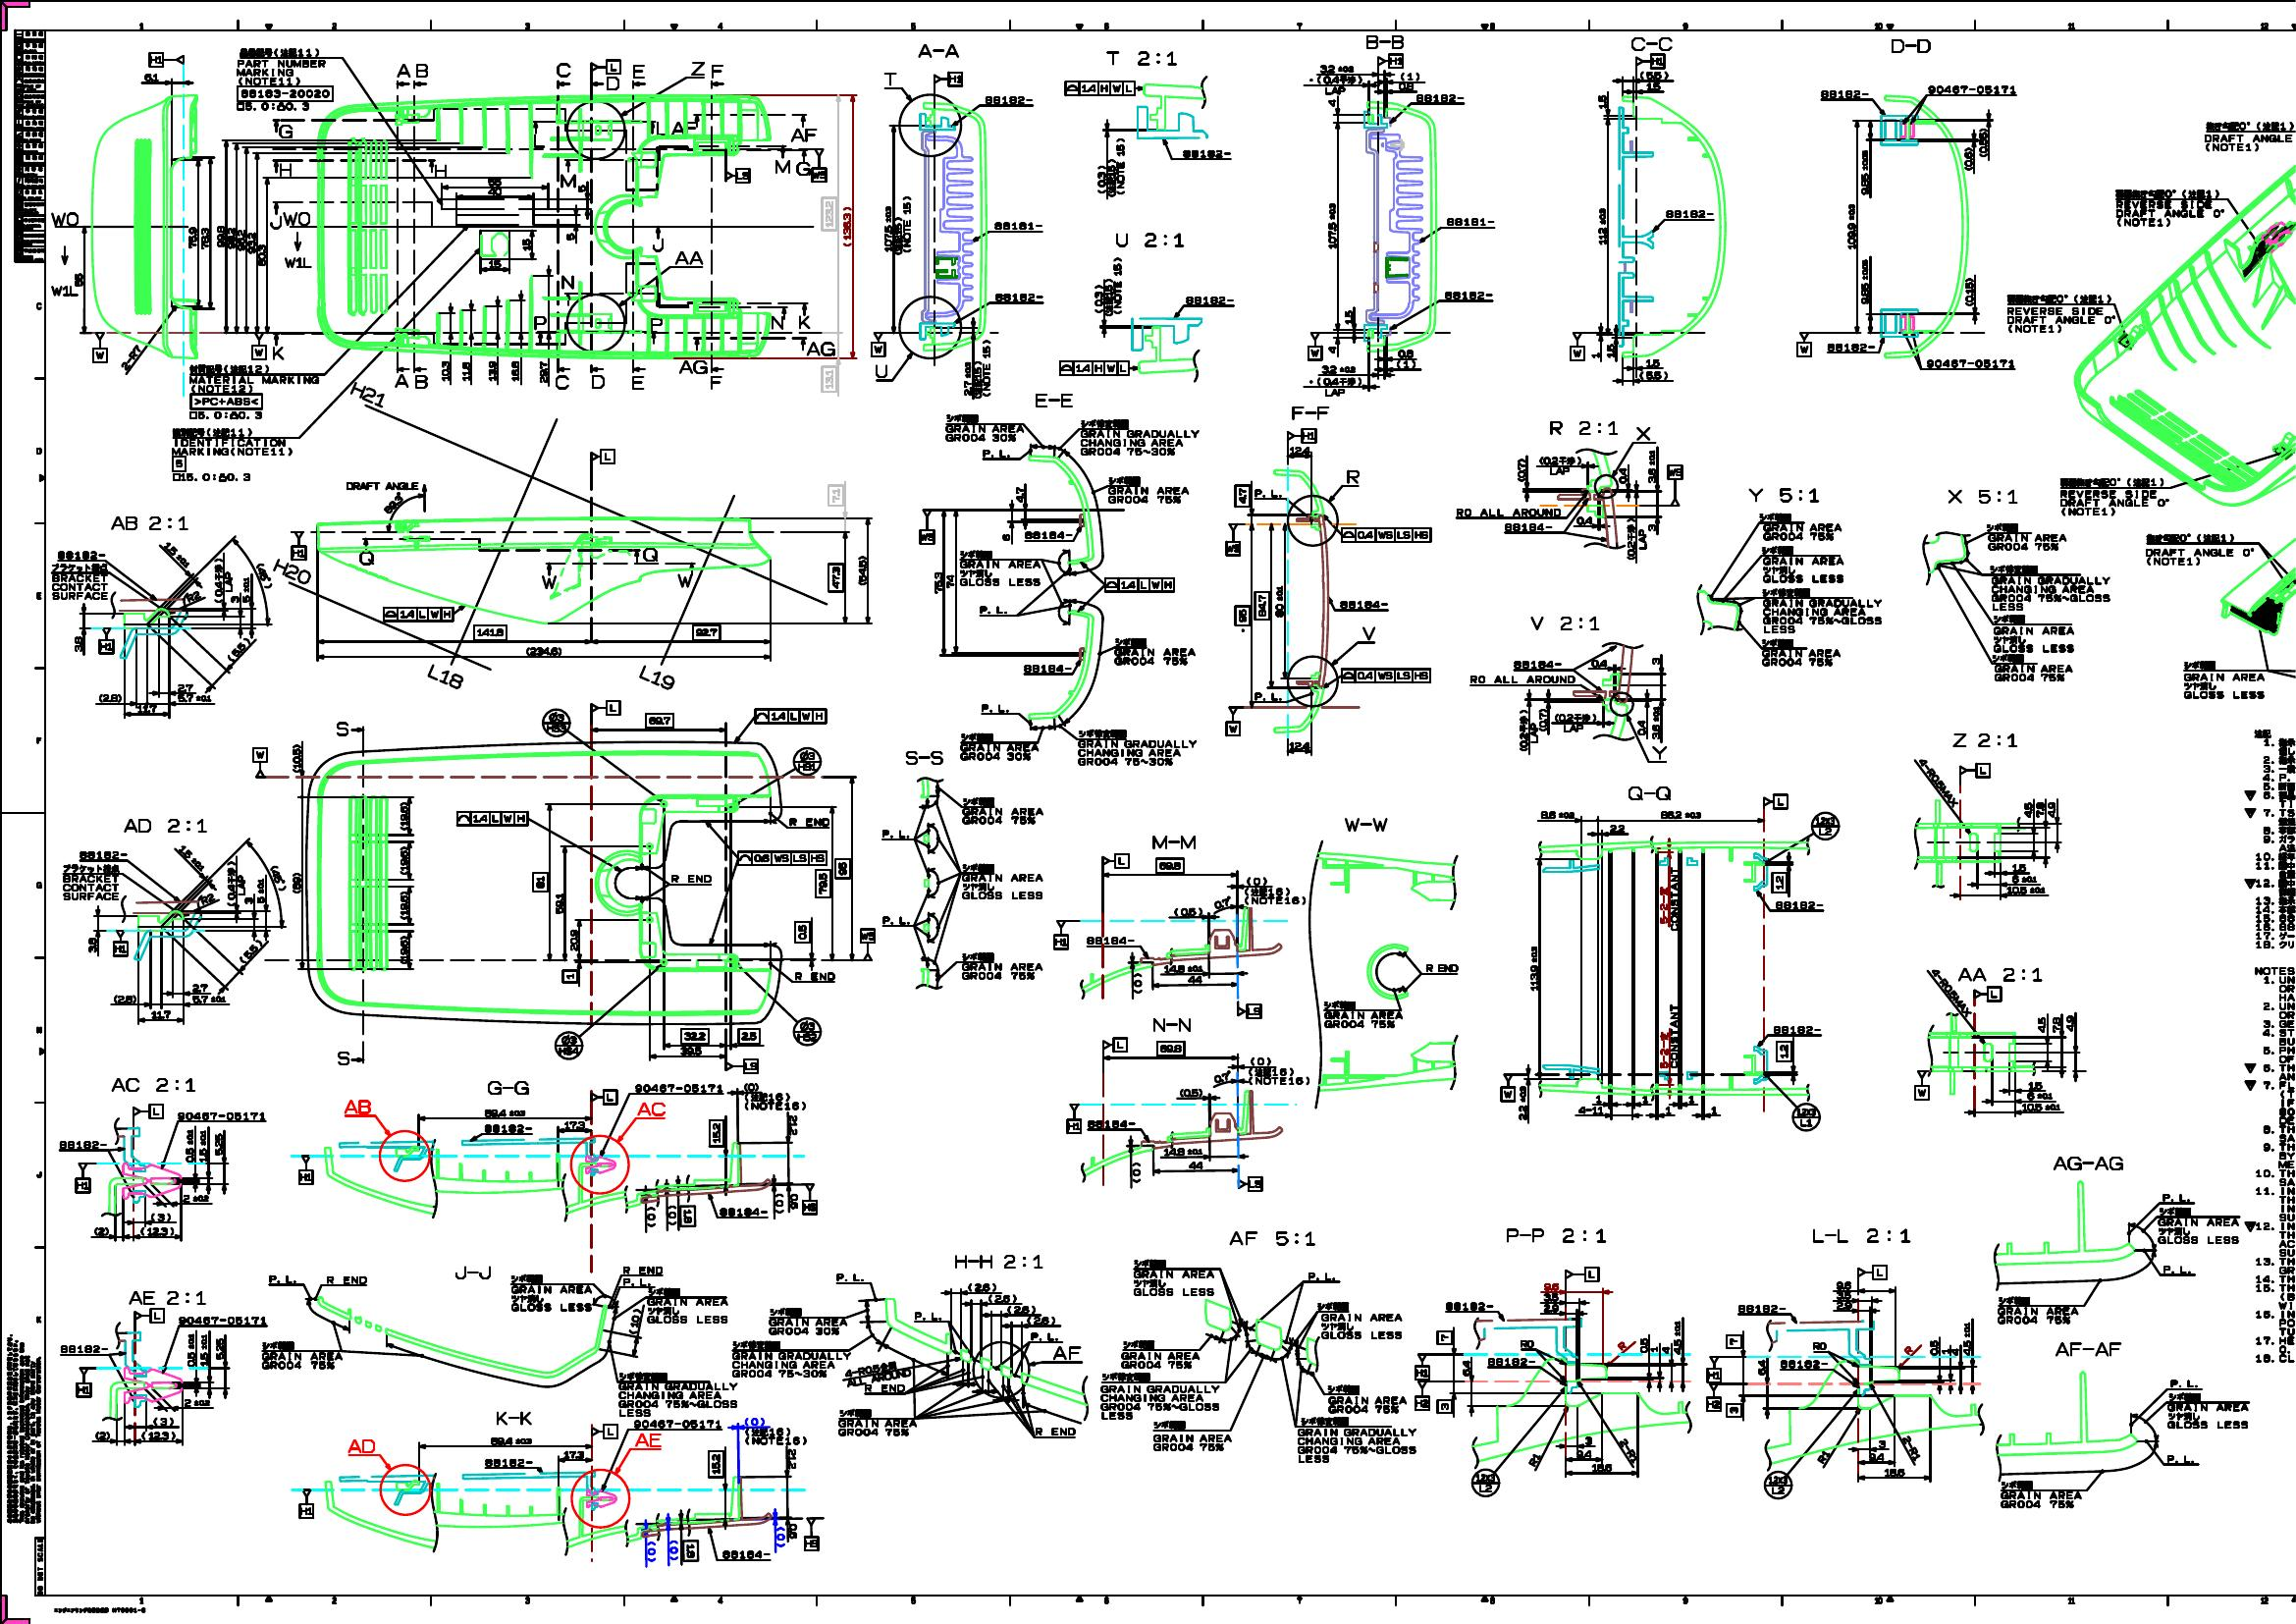anntotation_text: (188, 364, 320, 420), (5, 1334, 42, 1524), (172, 427, 295, 482), (1989, 564, 2113, 613), (235, 47, 332, 111), (1100, 1371, 1221, 1420), (617, 1371, 740, 1417), (1760, 587, 1883, 633), (1296, 1417, 1418, 1462), (1080, 417, 1200, 455), (2006, 294, 2117, 334), (2113, 188, 2224, 228), (2059, 476, 2170, 517), (731, 1341, 850, 1378), (1077, 729, 1196, 766), (2147, 533, 2256, 566), (1316, 1301, 1404, 1341), (1760, 545, 1845, 584), (2184, 661, 2266, 700), (959, 548, 1042, 587), (508, 1274, 592, 1311), (1992, 615, 2076, 652), (2166, 1392, 2250, 1429), (963, 863, 1045, 900), (1133, 1258, 1216, 1295), (2157, 1207, 2240, 1244), (2203, 121, 2296, 153), (646, 1287, 729, 1322), (49, 211, 79, 297), (1151, 1420, 1231, 1452), (961, 951, 1045, 981), (1999, 1480, 2083, 1510), (945, 413, 1024, 445), (262, 1341, 344, 1371), (961, 796, 1043, 826), (1985, 522, 2068, 552), (1990, 652, 2073, 682), (1997, 1295, 2080, 1325), (1326, 1383, 1407, 1413), (1108, 475, 1189, 504), (1121, 1339, 1200, 1369), (1758, 513, 1841, 541), (1114, 638, 1196, 666), (768, 1308, 848, 1336), (1323, 1000, 1404, 1028), (1760, 638, 1841, 666), (957, 731, 1038, 759), (838, 1408, 917, 1436), (61, 863, 119, 900), (51, 562, 107, 599), (1809, 1227, 1913, 1244), (1504, 1227, 1606, 1244), (281, 211, 311, 269), (1226, 1229, 1316, 1246), (1955, 965, 2043, 982), (111, 1076, 195, 1093), (1340, 527, 1432, 543), (954, 1253, 1043, 1269), (845, 1362, 912, 1383), (1658, 866, 1679, 932), (1242, 886, 1307, 907), (128, 1290, 206, 1308), (123, 817, 207, 833), (2050, 1155, 2124, 1172), (1658, 1002, 1678, 1069), (1946, 489, 2018, 506), (1748, 487, 1820, 504), (1105, 49, 1177, 67), (1340, 668, 1430, 682), (1548, 418, 1618, 436), (738, 851, 826, 865), (2052, 1341, 2122, 1359), (1247, 1067, 1310, 1086), (111, 515, 188, 531), (1103, 255, 1123, 316), (973, 337, 993, 399), (1950, 731, 2017, 749), (1107, 137, 1126, 197), (754, 708, 826, 724), (381, 606, 453, 622), (1456, 506, 1563, 517), (1469, 673, 1576, 684), (632, 1081, 724, 1093), (1925, 357, 2017, 369), (743, 1093, 806, 1111), (743, 1427, 806, 1445), (1059, 359, 1130, 374), (1309, 74, 1361, 95), (1114, 232, 1184, 248), (177, 1313, 267, 1325), (1530, 615, 1599, 631), (1105, 576, 1173, 592), (1307, 378, 1361, 397), (894, 195, 912, 255), (457, 810, 529, 824), (1065, 81, 1137, 95), (1809, 810, 1841, 842), (1925, 84, 2017, 95), (1790, 1102, 1822, 1132), (177, 1111, 265, 1121), (632, 1418, 720, 1429), (1518, 708, 1539, 752), (227, 859, 246, 907), (791, 1016, 820, 1046), (541, 707, 571, 736), (792, 745, 822, 775), (553, 1030, 583, 1060), (1470, 1468, 1500, 1497), (1539, 455, 1581, 476), (1555, 712, 1597, 733), (915, 40, 959, 60), (1762, 1469, 1792, 1497), (1149, 833, 1196, 851), (1627, 517, 1646, 559), (1342, 816, 1388, 833), (214, 557, 232, 603), (1920, 984, 1983, 997), (1906, 777, 1969, 789), (344, 480, 418, 490), (487, 1079, 531, 1097), (917, 508, 936, 545), (636, 668, 676, 685), (425, 666, 466, 684), (348, 387, 388, 404), (1289, 404, 1330, 422), (1630, 37, 1674, 53), (1888, 39, 1932, 54), (271, 564, 313, 580), (1363, 33, 1405, 49), (53, 1606, 146, 1613), (1627, 786, 1672, 800), (1151, 1016, 1191, 1032), (905, 749, 945, 765), (1033, 392, 1073, 408), (494, 1410, 532, 1425), (35, 1536, 46, 1594), (1665, 207, 1715, 220), (79, 849, 128, 861), (1667, 464, 1681, 506), (453, 1265, 494, 1280), (1084, 935, 1137, 946), (1184, 295, 1237, 306), (805, 339, 836, 357), (789, 127, 820, 144), (56, 1139, 107, 1149), (720, 1548, 771, 1559), (1414, 93, 1465, 104), (1737, 1302, 1788, 1313), (1773, 1025, 1823, 1035), (993, 292, 1043, 302), (993, 220, 1043, 230), (859, 926, 875, 960), (1565, 1265, 1599, 1281), (1913, 1070, 1931, 1100), (483, 1123, 532, 1134), (483, 1457, 532, 1468), (794, 970, 836, 982), (1444, 290, 1493, 301), (1820, 90, 1869, 100), (1513, 659, 1562, 670), (1444, 1301, 1493, 1311), (56, 548, 105, 559), (1339, 598, 1388, 608), (1182, 149, 1231, 160), (984, 95, 1033, 105), (74, 1162, 90, 1193), (60, 1343, 107, 1353), (726, 1058, 757, 1074), (1446, 216, 1493, 227), (1569, 330, 1585, 362), (1827, 341, 1874, 352), (1504, 522, 1551, 533), (1488, 1355, 1535, 1366), (1780, 1359, 1827, 1369), (1224, 524, 1240, 555), (676, 359, 708, 374), (148, 53, 183, 67), (669, 120, 697, 137), (636, 1102, 666, 1118), (343, 1098, 372, 1114), (132, 1102, 162, 1118), (134, 1308, 163, 1323), (346, 1438, 376, 1454), (632, 1432, 662, 1448), (1051, 1345, 1080, 1360), (91, 332, 107, 362), (1635, 53, 1665, 69), (590, 700, 620, 715), (290, 531, 306, 561), (933, 70, 963, 86), (812, 148, 826, 181), (323, 1274, 367, 1285), (1033, 1425, 1077, 1436), (717, 1207, 768, 1216), (1087, 1120, 1138, 1128), (669, 874, 711, 884), (805, 1519, 819, 1550), (1101, 852, 1130, 868), (1307, 332, 1323, 360), (787, 816, 829, 826), (1414, 1381, 1430, 1410), (1706, 1355, 1722, 1383), (1859, 1264, 1887, 1280), (1224, 707, 1240, 735), (588, 60, 620, 74), (675, 250, 703, 265), (1425, 961, 1460, 974), (1774, 900, 1823, 909), (1024, 531, 1073, 540), (1022, 664, 1072, 673), (803, 1185, 817, 1214), (299, 1155, 313, 1185), (76, 1367, 90, 1397), (299, 1489, 313, 1519), (1066, 1104, 1080, 1134), (253, 747, 267, 777), (1286, 429, 1316, 443), (590, 1424, 617, 1439), (112, 930, 128, 956), (1414, 1353, 1430, 1380), (98, 627, 114, 654), (1975, 986, 2003, 1000), (1960, 763, 1989, 777), (1764, 793, 1788, 808), (1238, 1176, 1263, 1192), (1797, 332, 1813, 357), (590, 448, 615, 464), (871, 330, 887, 355), (726, 167, 750, 183), (590, 1090, 617, 1104), (1500, 1074, 1514, 1100), (251, 332, 265, 359), (1377, 53, 1404, 67), (1706, 1383, 1720, 1410), (836, 1271, 866, 1283), (1054, 919, 1066, 949), (980, 701, 1010, 714), (1103, 1035, 1126, 1051), (622, 1265, 662, 1274), (864, 1383, 905, 1392), (880, 914, 912, 924), (2168, 1378, 2199, 1388), (2161, 1264, 2192, 1274), (1237, 1004, 1260, 1018), (1029, 1330, 1059, 1341), (880, 828, 910, 838), (2161, 1192, 2191, 1202), (980, 448, 1010, 459), (978, 605, 1008, 615), (393, 62, 411, 79), (796, 313, 813, 330), (603, 74, 620, 91), (2166, 1454, 2194, 1464), (278, 162, 295, 178), (271, 346, 286, 364), (432, 163, 450, 179), (357, 550, 374, 566), (641, 547, 659, 562), (1254, 691, 1281, 701), (1360, 624, 1375, 642), (882, 70, 898, 88), (648, 237, 666, 253), (773, 158, 791, 174), (768, 315, 783, 332), (631, 374, 646, 392), (588, 374, 606, 390), (553, 374, 571, 390), (413, 374, 429, 392), (393, 373, 411, 388), (652, 120, 668, 137), (689, 60, 706, 76), (336, 719, 350, 738), (267, 1274, 297, 1283), (622, 1278, 652, 1287), (1307, 1271, 1337, 1280), (278, 123, 293, 139), (269, 214, 285, 230), (1635, 425, 1651, 441), (873, 364, 889, 380), (796, 160, 812, 176), (648, 316, 664, 332), (708, 374, 724, 390), (559, 274, 574, 290), (531, 315, 546, 330), (559, 172, 574, 188), (708, 63, 724, 79), (631, 63, 646, 79), (555, 62, 571, 77), (413, 63, 429, 79), (913, 1311, 942, 1320), (1254, 489, 1282, 497), (1346, 468, 1360, 485), (541, 575, 557, 589), (678, 573, 692, 589), (1651, 745, 1667, 759), (337, 1049, 350, 1067)
dimension_text: (820, 197, 838, 230), (473, 624, 506, 640), (708, 1120, 727, 1146), (1528, 944, 1539, 991), (882, 206, 892, 253), (1326, 202, 1337, 250), (680, 1026, 708, 1044), (1859, 258, 1869, 304), (1846, 204, 1857, 250), (1859, 149, 1869, 195), (1254, 591, 1270, 620), (815, 868, 831, 898), (488, 1436, 532, 1446), (820, 366, 838, 392), (645, 714, 673, 729), (1156, 858, 1184, 874), (1156, 1040, 1184, 1056), (160, 548, 195, 561), (841, 206, 852, 246), (829, 562, 843, 592), (692, 624, 718, 640), (708, 1450, 724, 1476), (114, 352, 148, 364), (523, 645, 562, 656), (2006, 884, 2045, 895), (738, 1026, 761, 1044), (172, 852, 209, 863), (139, 1225, 176, 1236), (141, 1431, 177, 1441), (1318, 63, 1354, 74), (1597, 207, 1607, 244), (191, 993, 227, 1004), (483, 1109, 525, 1118), (1660, 810, 1702, 819), (1771, 872, 1788, 893), (1321, 364, 1356, 374), (1163, 965, 1203, 974), (1163, 1148, 1203, 1156), (1274, 584, 1284, 617), (1960, 1322, 1971, 1355), (2022, 1102, 2061, 1111), (1233, 485, 1249, 506), (680, 1206, 696, 1227), (292, 742, 302, 773), (794, 921, 810, 942), (1776, 1040, 1792, 1062), (682, 1540, 697, 1561), (379, 497, 406, 510), (223, 643, 253, 654), (966, 1281, 996, 1292), (1096, 163, 1107, 193), (1093, 283, 1103, 313), (1651, 705, 1660, 740), (1233, 606, 1251, 624), (177, 692, 213, 701), (1518, 1084, 1527, 1120), (1541, 810, 1576, 819), (827, 485, 843, 504), (532, 872, 548, 891), (834, 858, 850, 877), (1897, 1441, 1925, 1452), (1614, 1445, 1643, 1455), (1964, 278, 1975, 306), (1978, 128, 1989, 156), (1648, 450, 1657, 483), (184, 1128, 193, 1162), (186, 1332, 195, 1366), (963, 362, 971, 395), (857, 555, 866, 587), (258, 562, 269, 589), (272, 865, 283, 891), (199, 1130, 207, 1162), (629, 1308, 639, 1334), (199, 1334, 207, 1366), (235, 947, 265, 956), (399, 935, 408, 965), (1173, 907, 1203, 916), (1026, 1316, 1056, 1325), (1007, 1304, 1036, 1313), (987, 1294, 1017, 1302), (1639, 70, 1669, 79), (1639, 371, 1669, 380), (97, 692, 121, 703), (112, 993, 137, 1004), (213, 1132, 223, 1156), (149, 1211, 170, 1223), (569, 928, 580, 953), (1179, 1088, 1203, 1098), (214, 1336, 225, 1360), (181, 1193, 209, 1202), (399, 801, 408, 830), (399, 847, 408, 875), (399, 891, 408, 919), (2025, 1091, 2054, 1100), (1725, 1403, 1743, 1417), (1674, 1320, 1681, 1355), (183, 1399, 211, 1408), (680, 1046, 703, 1056), (1883, 1468, 1906, 1478), (775, 1526, 785, 1548), (646, 1541, 657, 1564), (241, 576, 249, 603), (255, 877, 264, 903), (2011, 875, 2038, 884), (149, 1009, 170, 1019), (292, 872, 302, 893), (1131, 972, 1142, 993), (1725, 1334, 1741, 1348), (1437, 1399, 1453, 1413), (1437, 1330, 1453, 1345), (787, 1448, 798, 1469), (487, 360, 497, 381), (439, 360, 450, 381), (1214, 1070, 1231, 1083), (1578, 1106, 1602, 1114), (93, 1429, 111, 1441), (1964, 146, 1973, 170), (1516, 457, 1525, 482), (669, 1541, 680, 1561), (509, 362, 520, 381), (1400, 70, 1419, 81), (1539, 708, 1548, 731), (933, 571, 942, 594), (1249, 1056, 1272, 1065), (1590, 1462, 1613, 1471), (188, 225, 197, 248), (200, 227, 209, 250), (216, 225, 225, 248), (227, 227, 235, 250), (248, 232, 256, 255), (1576, 515, 1593, 526), (646, 1206, 655, 1227), (668, 1204, 676, 1225), (789, 1114, 798, 1135), (555, 893, 564, 914), (1245, 875, 1267, 884), (1214, 898, 1231, 909), (1131, 1162, 1140, 1183), (2036, 1016, 2047, 1033), (745, 1417, 766, 1425), (562, 1450, 583, 1459), (153, 1417, 174, 1425), (237, 228, 246, 250), (256, 244, 265, 265), (538, 362, 546, 383), (1289, 742, 1309, 750), (1289, 446, 1309, 455), (137, 705, 156, 714), (564, 1120, 583, 1128), (775, 1193, 783, 1213), (462, 362, 471, 381), (1397, 359, 1416, 367), (1635, 719, 1646, 735), (2047, 801, 2057, 817), (2034, 801, 2045, 817), (1929, 1339, 1939, 1355), (1836, 1290, 1852, 1301), (1836, 1280, 1852, 1290), (1576, 1448, 1592, 1459), (199, 895, 216, 903), (789, 1192, 798, 1209), (2052, 1016, 2061, 1033), (2066, 1014, 2075, 1032), (1757, 1359, 1765, 1376), (1639, 1336, 1648, 1353), (789, 1522, 798, 1540), (1397, 350, 1414, 359), (1397, 81, 1414, 90), (93, 1225, 107, 1236), (2013, 861, 2027, 872), (1813, 1341, 1827, 1352), (488, 258, 502, 269), (1646, 357, 1660, 367), (1618, 468, 1627, 483), (1592, 659, 1607, 668), (945, 573, 954, 589), (177, 682, 193, 691), (74, 634, 83, 650), (186, 592, 202, 601), (88, 937, 97, 953), (191, 982, 207, 991), (743, 1083, 759, 1091), (1188, 974, 1203, 982), (1188, 1160, 1203, 1169), (1609, 824, 1625, 833), (2024, 801, 2032, 817), (2027, 1081, 2043, 1090), (1867, 1452, 1883, 1461), (1836, 1301, 1852, 1309), (1542, 1304, 1558, 1313), (1542, 1292, 1558, 1301), (1542, 1281, 1558, 1290), (1462, 1360, 1470, 1376), (144, 72, 160, 81), (487, 178, 502, 186), (1606, 343, 1614, 359), (1015, 485, 1022, 503), (1816, 1454, 1830, 1462), (1527, 1455, 1541, 1464), (1520, 1339, 1534, 1348), (74, 272, 83, 286), (522, 237, 531, 251), (1344, 309, 1353, 323), (487, 188, 502, 195), (1326, 344, 1337, 355), (1597, 95, 1606, 107), (1646, 83, 1660, 90), (1648, 522, 1657, 533), (1651, 656, 1660, 666), (1001, 533, 1012, 541), (1903, 1345, 1913, 1353), (1876, 1438, 1885, 1448), (1616, 1341, 1627, 1350), (1326, 98, 1337, 107), (244, 896, 253, 905), (1709, 1106, 1718, 1114), (1686, 1095, 1695, 1104), (1664, 1106, 1672, 1114), (1950, 1346, 1959, 1355), (1660, 1345, 1669, 1353), (1650, 1345, 1658, 1353), (566, 232, 574, 241), (1590, 352, 1600, 359), (230, 596, 239, 603), (1641, 1095, 1648, 1104), (1593, 1095, 1602, 1102), (1941, 1346, 1948, 1355), (1585, 1436, 1592, 1445), (578, 183, 585, 192)
object: (302, 736, 785, 1030), (314, 93, 775, 360), (2069, 160, 2296, 508), (1535, 840, 1809, 1097), (316, 513, 773, 629), (321, 1135, 775, 1220), (323, 1469, 771, 1550), (1316, 849, 1458, 1093), (1765, 1313, 1983, 1469), (1472, 1316, 1692, 1464), (88, 90, 199, 359), (1616, 93, 1725, 359), (304, 1295, 617, 1387), (863, 1299, 1087, 1422), (1878, 93, 1971, 359), (1026, 441, 1105, 729), (1133, 83, 1210, 374), (1361, 100, 1439, 353), (1990, 1179, 2155, 1290), (917, 102, 989, 352), (1079, 905, 1282, 993), (1082, 1088, 1284, 1176), (1996, 1369, 2159, 1476), (1274, 466, 1332, 735), (1913, 798, 2022, 889), (1927, 1014, 2036, 1098), (1203, 1299, 1319, 1374), (105, 1127, 183, 1216), (109, 1330, 183, 1420), (1555, 448, 1620, 548), (1572, 642, 1634, 740), (915, 777, 940, 990), (114, 594, 190, 661), (132, 898, 206, 961), (1920, 531, 1969, 580), (1697, 587, 1744, 633)
title_block: (14, 28, 46, 264)
